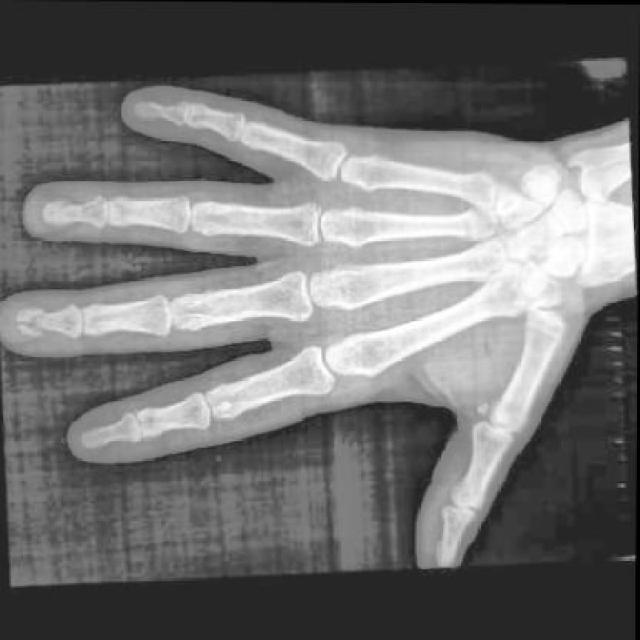Fracture: (14, 309, 45, 342), (40, 198, 73, 228), (79, 426, 107, 454), (136, 103, 161, 123)
